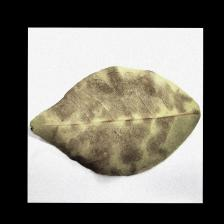black spot: (86, 86, 175, 154)
